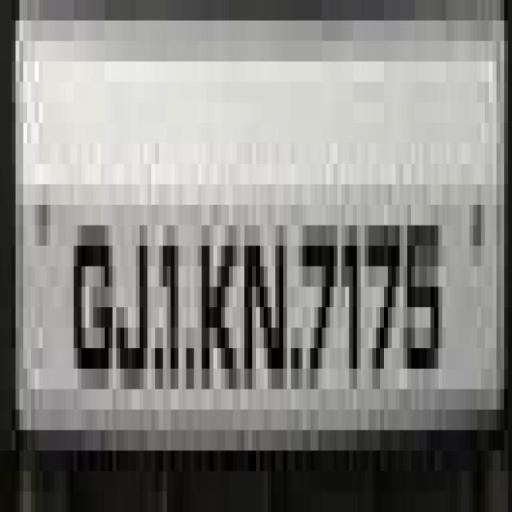number plate: (19, 20, 512, 471)
